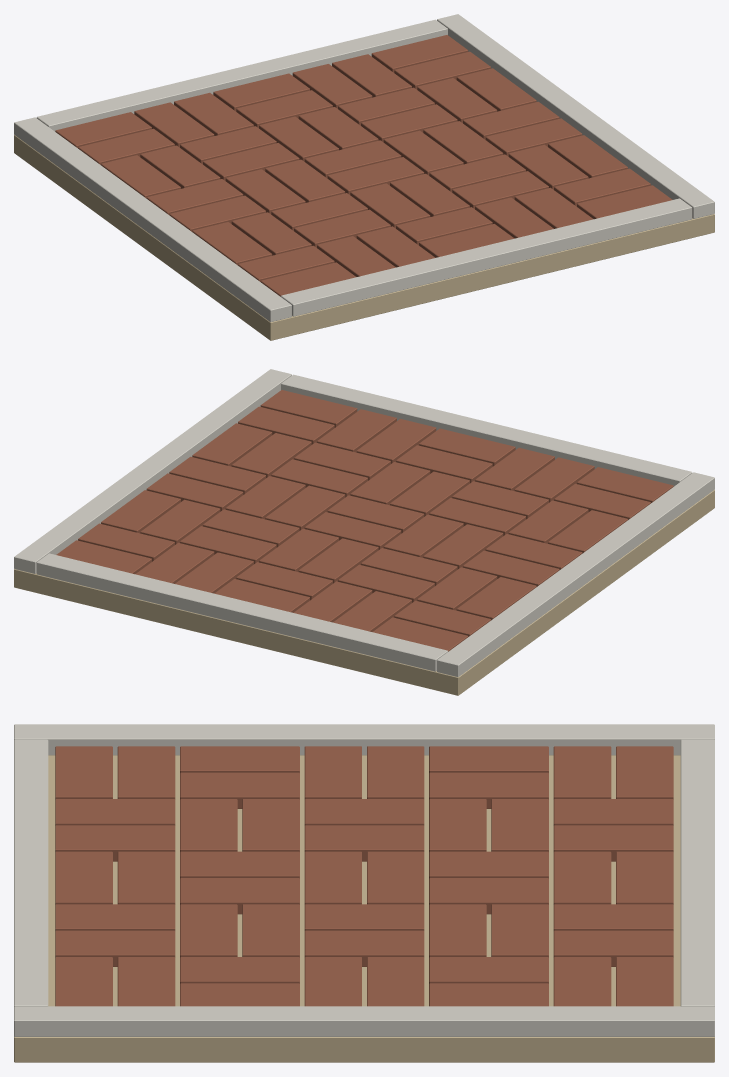
Rendered from b13_basketweave_brick_sidewalk_panel.glb.
3 views of the same model, one above another, from view 1: azimuth 30°, elevation 25°; view 2: azimuth 150°, elevation 25°; view 3: azimuth 270°, elevation 25° (orthographic). The views are drawn at different scales.
Parts seen in each view (by area): view 1: b13_basketweave_brick_sidewalk_panel; view 2: b13_basketweave_brick_sidewalk_panel; view 3: b13_basketweave_brick_sidewalk_panel.
Part boxes in pixels (left/top/right/bottom): b13_basketweave_brick_sidewalk_panel: left=14, top=14, right=714, bottom=340; b13_basketweave_brick_sidewalk_panel: left=14, top=369, right=714, bottom=695; b13_basketweave_brick_sidewalk_panel: left=14, top=724, right=714, bottom=1062.
Size of the model in its own units: 2.25 by 0.15 by 2.25.
